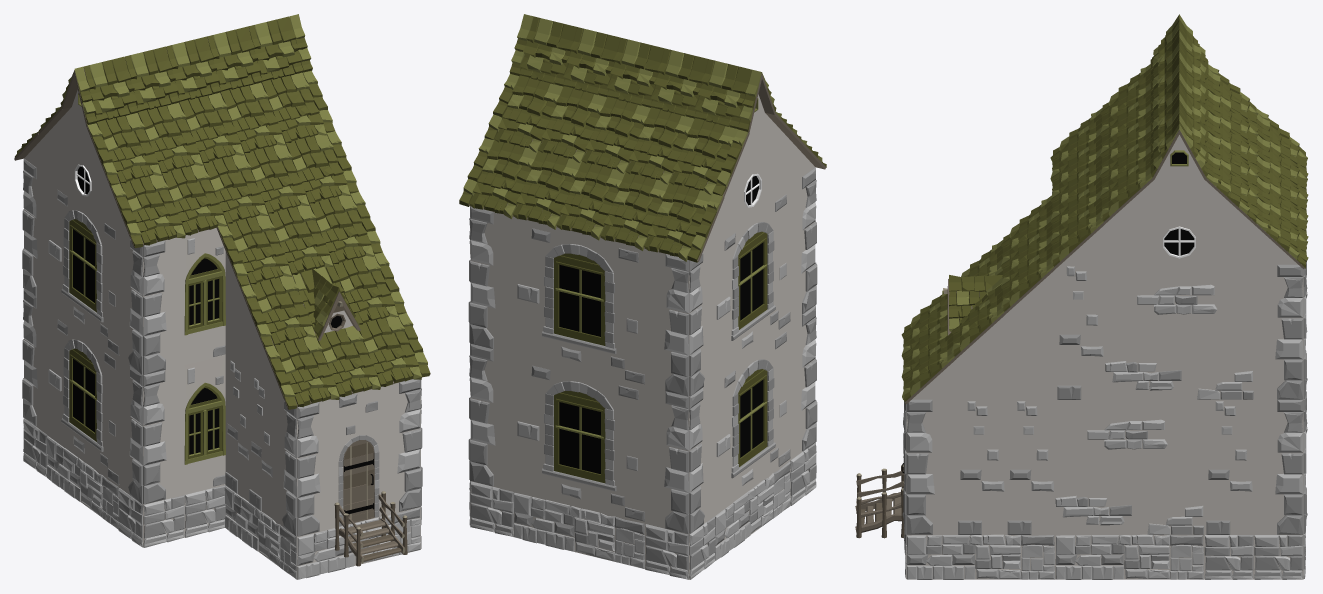
File: House_07.glb
3 views of the same model, side by side, from view 1: azimuth 30°, elevation 25°; view 2: azimuth 150°, elevation 25°; view 3: azimuth 270°, elevation 25° (orthographic). The views are drawn at different scales.
Parts seen in each view (by area): view 1: WINDOW_05_12, WINDOW_05_13, WALL_05_2, WINDOW_01_02, WALL_05_3, WALL_05_4, WINDOW_01_03, WALL_07_3, DOOR_01_3, FOUNDATION_03_2, WALL_05_7, WALL_05_6 (+57 smaller); view 2: WINDOW_05_11, WINDOW_05_10, WINDOW_05_12, WINDOW_05_13, WALL_05_9, WALL_07_8, WALL_05_8, WALL_07_9, FOUNDATION_03_5, WALL_07_6, WALL_07_4, WALL_05_6 (+33 smaller); view 3: WALL_03_2, WALL_03_3, WALL_06_5, WALL_05_5, FOUNDATION_03_6, FOUNDATION_03_7, WALL_06_8, WALL_07_5, WALL_06_6, WALL_06_10, WALL_07_7, ROOF_TRIANGLE_QUAD_WINDOW_3 (+62 smaller).
Part boxes in pixels (x1,y1,x2,y2): WINDOW_05_12: [48, 176, 119, 357]; WINDOW_05_13: [48, 306, 119, 486]; WALL_05_2: [143, 365, 184, 504]; WINDOW_01_02: [184, 355, 225, 494]; WALL_05_3: [143, 237, 184, 374]; WALL_05_4: [297, 399, 338, 536]; WINDOW_01_03: [184, 228, 225, 364]; WALL_07_3: [379, 379, 421, 516]; DOOR_01_3: [338, 389, 379, 526]; FOUNDATION_03_2: [297, 507, 420, 579]; WALL_05_7: [22, 158, 47, 304]; WALL_05_6: [22, 288, 47, 434]; WINDOW_05_11: [514, 354, 645, 523]; WINDOW_05_10: [514, 217, 645, 385]; WINDOW_05_12: [714, 186, 790, 378]; WINDOW_05_13: [714, 323, 790, 515]; WALL_05_9: [469, 343, 514, 491]; WALL_07_8: [645, 386, 689, 533]; WALL_05_8: [469, 206, 514, 353]; WALL_07_9: [645, 249, 689, 396]; FOUNDATION_03_5: [514, 491, 645, 568]; WALL_07_6: [790, 167, 817, 322]; WALL_07_4: [790, 305, 817, 459]; WALL_05_6: [689, 379, 714, 533]; WALL_03_2: [1055, 399, 1204, 534]; WALL_03_3: [1105, 264, 1253, 399]; WALL_06_5: [1005, 399, 1055, 534]; WALL_05_5: [906, 399, 956, 534]; FOUNDATION_03_6: [1055, 534, 1204, 579]; FOUNDATION_03_7: [906, 534, 1055, 579]; WALL_06_8: [1204, 399, 1253, 534]; WALL_07_5: [1254, 399, 1303, 534]; WALL_06_6: [956, 399, 1005, 534]; WALL_06_10: [1055, 264, 1104, 399]; WALL_07_7: [1254, 264, 1303, 399]; ROOF_TRIANGLE_QUAD_WINDOW_3: [1154, 219, 1204, 264].
Size of the model in its own units: 5.47 by 10.14 by 9.13.
1 material, 1 textured.
